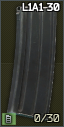SA-58%5FAL 7.62x51 British 30-round magazine: (0, 0, 64, 127)
